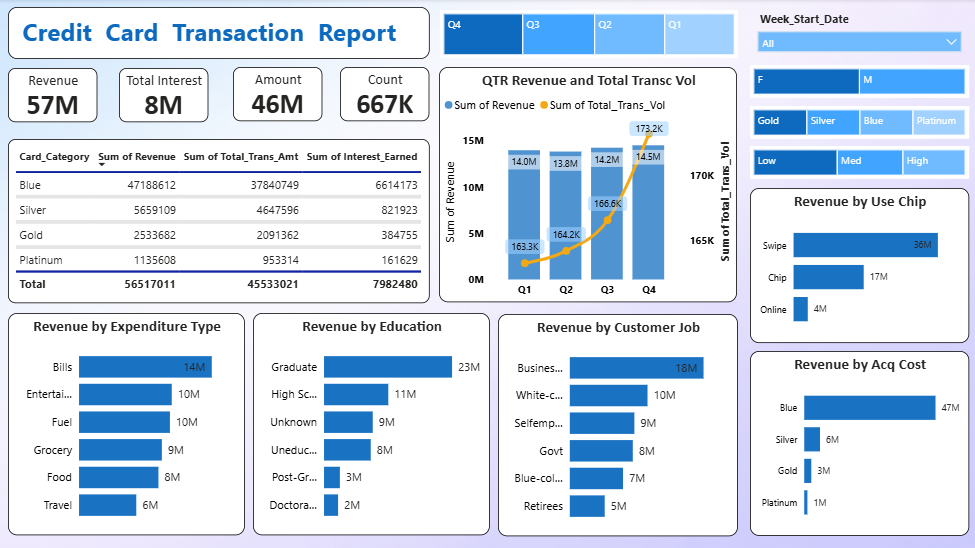

Layout of this report page (visuals, bound fields, positions):
{"tool":"powerbi","page":{"name":"CC Transaction","canvas":[1280,720],"ordinal":1},"visuals":[{"type":"textbox","box":[10.1,10.1,551.5,67.7],"z":0},{"type":"lineStackedColumnComboChart","title":"QTR Revenue and Total Transc Vol","fields":{"Category":[" credit_card detail.Qtr"],"Y":["Sum( credit_card detail.Revenue)"],"Y2":["Sum( credit_card detail.Total_Trans_Vol)"]},"box":[574.6,89.3,390.2,308.2],"z":1000},{"type":"barChart","title":"Revenue by Expenditure Type","fields":{"Y":["Sum( credit_card detail.Revenue)"],"Category":[" credit_card detail.Exp Type"]},"box":[10.1,410.4,310,290.9],"z":2000},{"type":"barChart","title":"Revenue by Customer Job","fields":{"Y":["Sum( credit_card detail.Revenue)"],"Category":["customer detail.Customer_Job"]},"box":[652.3,411.8,313.9,290.9],"z":3000},{"type":"barChart","title":"Revenue by Education","fields":{"Y":["Sum( credit_card detail.Revenue)"],"Category":["customer detail.Education_Level"]},"box":[331.2,410.4,310,290.9],"z":4000},{"type":"barChart","title":"Revenue by Acq Cost","fields":{"Y":["Sum( credit_card detail.Revenue)"],"Category":[" credit_card detail.Card_Category"]},"box":[982.1,460.8,286.6,241.9],"z":5000},{"type":"barChart","title":"Revenue by Use Chip","fields":{"Y":["Sum( credit_card detail.Revenue)"],"Category":[" credit_card detail.Use Chip"]},"box":[982.1,247.7,286.6,203],"z":6000},{"type":"tableEx","fields":{"Values":[" credit_card detail.Card_Category","Sum( credit_card detail.Revenue)","Sum( credit_card detail.Total_Trans_Amt)","Sum( credit_card detail.Interest_Earned)"]},"box":[10.1,182.9,551.5,214.6],"z":7000},{"type":"card","title":"Revenue","fields":{"Values":["Sum( credit_card detail.Revenue)"]},"box":[10.1,90.7,116.6,70.6],"z":8000},{"type":"card","title":"Count","fields":{"Values":["Sum( credit_card detail.Total_Trans_Vol)"]},"box":[445,89.3,116.6,70.6],"z":9000},{"type":"card","title":"Total Interest","fields":{"Values":["Sum( credit_card detail.Interest_Earned)"]},"box":[155.5,90.7,116.6,70.6],"z":10000},{"type":"card","title":"Amount","fields":{"Values":["Sum( credit_card detail.Total_Trans_Amt)"]},"box":[305.3,89.3,116.6,70.6],"z":11000},{"type":"slicer","fields":{"Values":[" credit_card detail.Week_Start_Date"]},"box":[982.1,10.1,286.6,67.7],"z":12000},{"type":"treemap","fields":{"Group":[" credit_card detail.Qtr"],"Values":["Avg( credit_card detail.Client_Num)"]},"box":[576,14.4,390.2,63.4],"z":13000},{"type":"treemap","fields":{"Values":["Avg( credit_card detail.Client_Num)"],"Group":["customer detail.Gender"]},"box":[982.1,86.4,286.6,43.2],"z":14000},{"type":"treemap","fields":{"Values":["Avg( credit_card detail.Client_Num)"],"Group":[" credit_card detail.Card_Category"]},"box":[982.1,139.7,286.6,43.2],"z":15000},{"type":"treemap","fields":{"Values":["Sum( credit_card detail.Client_Num)"],"Group":["customer detail.IncomeGroup"]},"box":[982.1,193,286.6,43.2],"z":16000}]}

Visuals, with their boxes in screenshot pixels (x1, y1, x2, y2), scaled from the page's 1280x720 canvas onto the 975x548 screenshot:
textbox: (left=8, top=8, right=428, bottom=59)
"QTR Revenue and Total Transc Vol" lineStackedColumnComboChart: (left=438, top=68, right=735, bottom=303)
"Revenue by Expenditure Type" barChart: (left=8, top=312, right=244, bottom=534)
"Revenue by Customer Job" barChart: (left=497, top=313, right=736, bottom=535)
"Revenue by Education" barChart: (left=252, top=312, right=488, bottom=534)
"Revenue by Acq Cost" barChart: (left=748, top=351, right=966, bottom=535)
"Revenue by Use Chip" barChart: (left=748, top=189, right=966, bottom=343)
tableEx -  credit_card detail.Card_Category x Sum( credit_card detail.Revenue): (left=8, top=139, right=428, bottom=303)
"Revenue" card: (left=8, top=69, right=97, bottom=123)
"Count" card: (left=339, top=68, right=428, bottom=122)
"Total Interest" card: (left=118, top=69, right=207, bottom=123)
"Amount" card: (left=233, top=68, right=321, bottom=122)
slicer -  credit_card detail.Week_Start_Date: (left=748, top=8, right=966, bottom=59)
treemap -  credit_card detail.Qtr x Avg( credit_card detail.Client_Num): (left=439, top=11, right=736, bottom=59)
treemap - Avg( credit_card detail.Client_Num) x customer detail.Gender: (left=748, top=66, right=966, bottom=99)
treemap - Avg( credit_card detail.Client_Num) x  credit_card detail.Card_Category: (left=748, top=106, right=966, bottom=139)
treemap - Sum( credit_card detail.Client_Num) x customer detail.IncomeGroup: (left=748, top=147, right=966, bottom=180)
